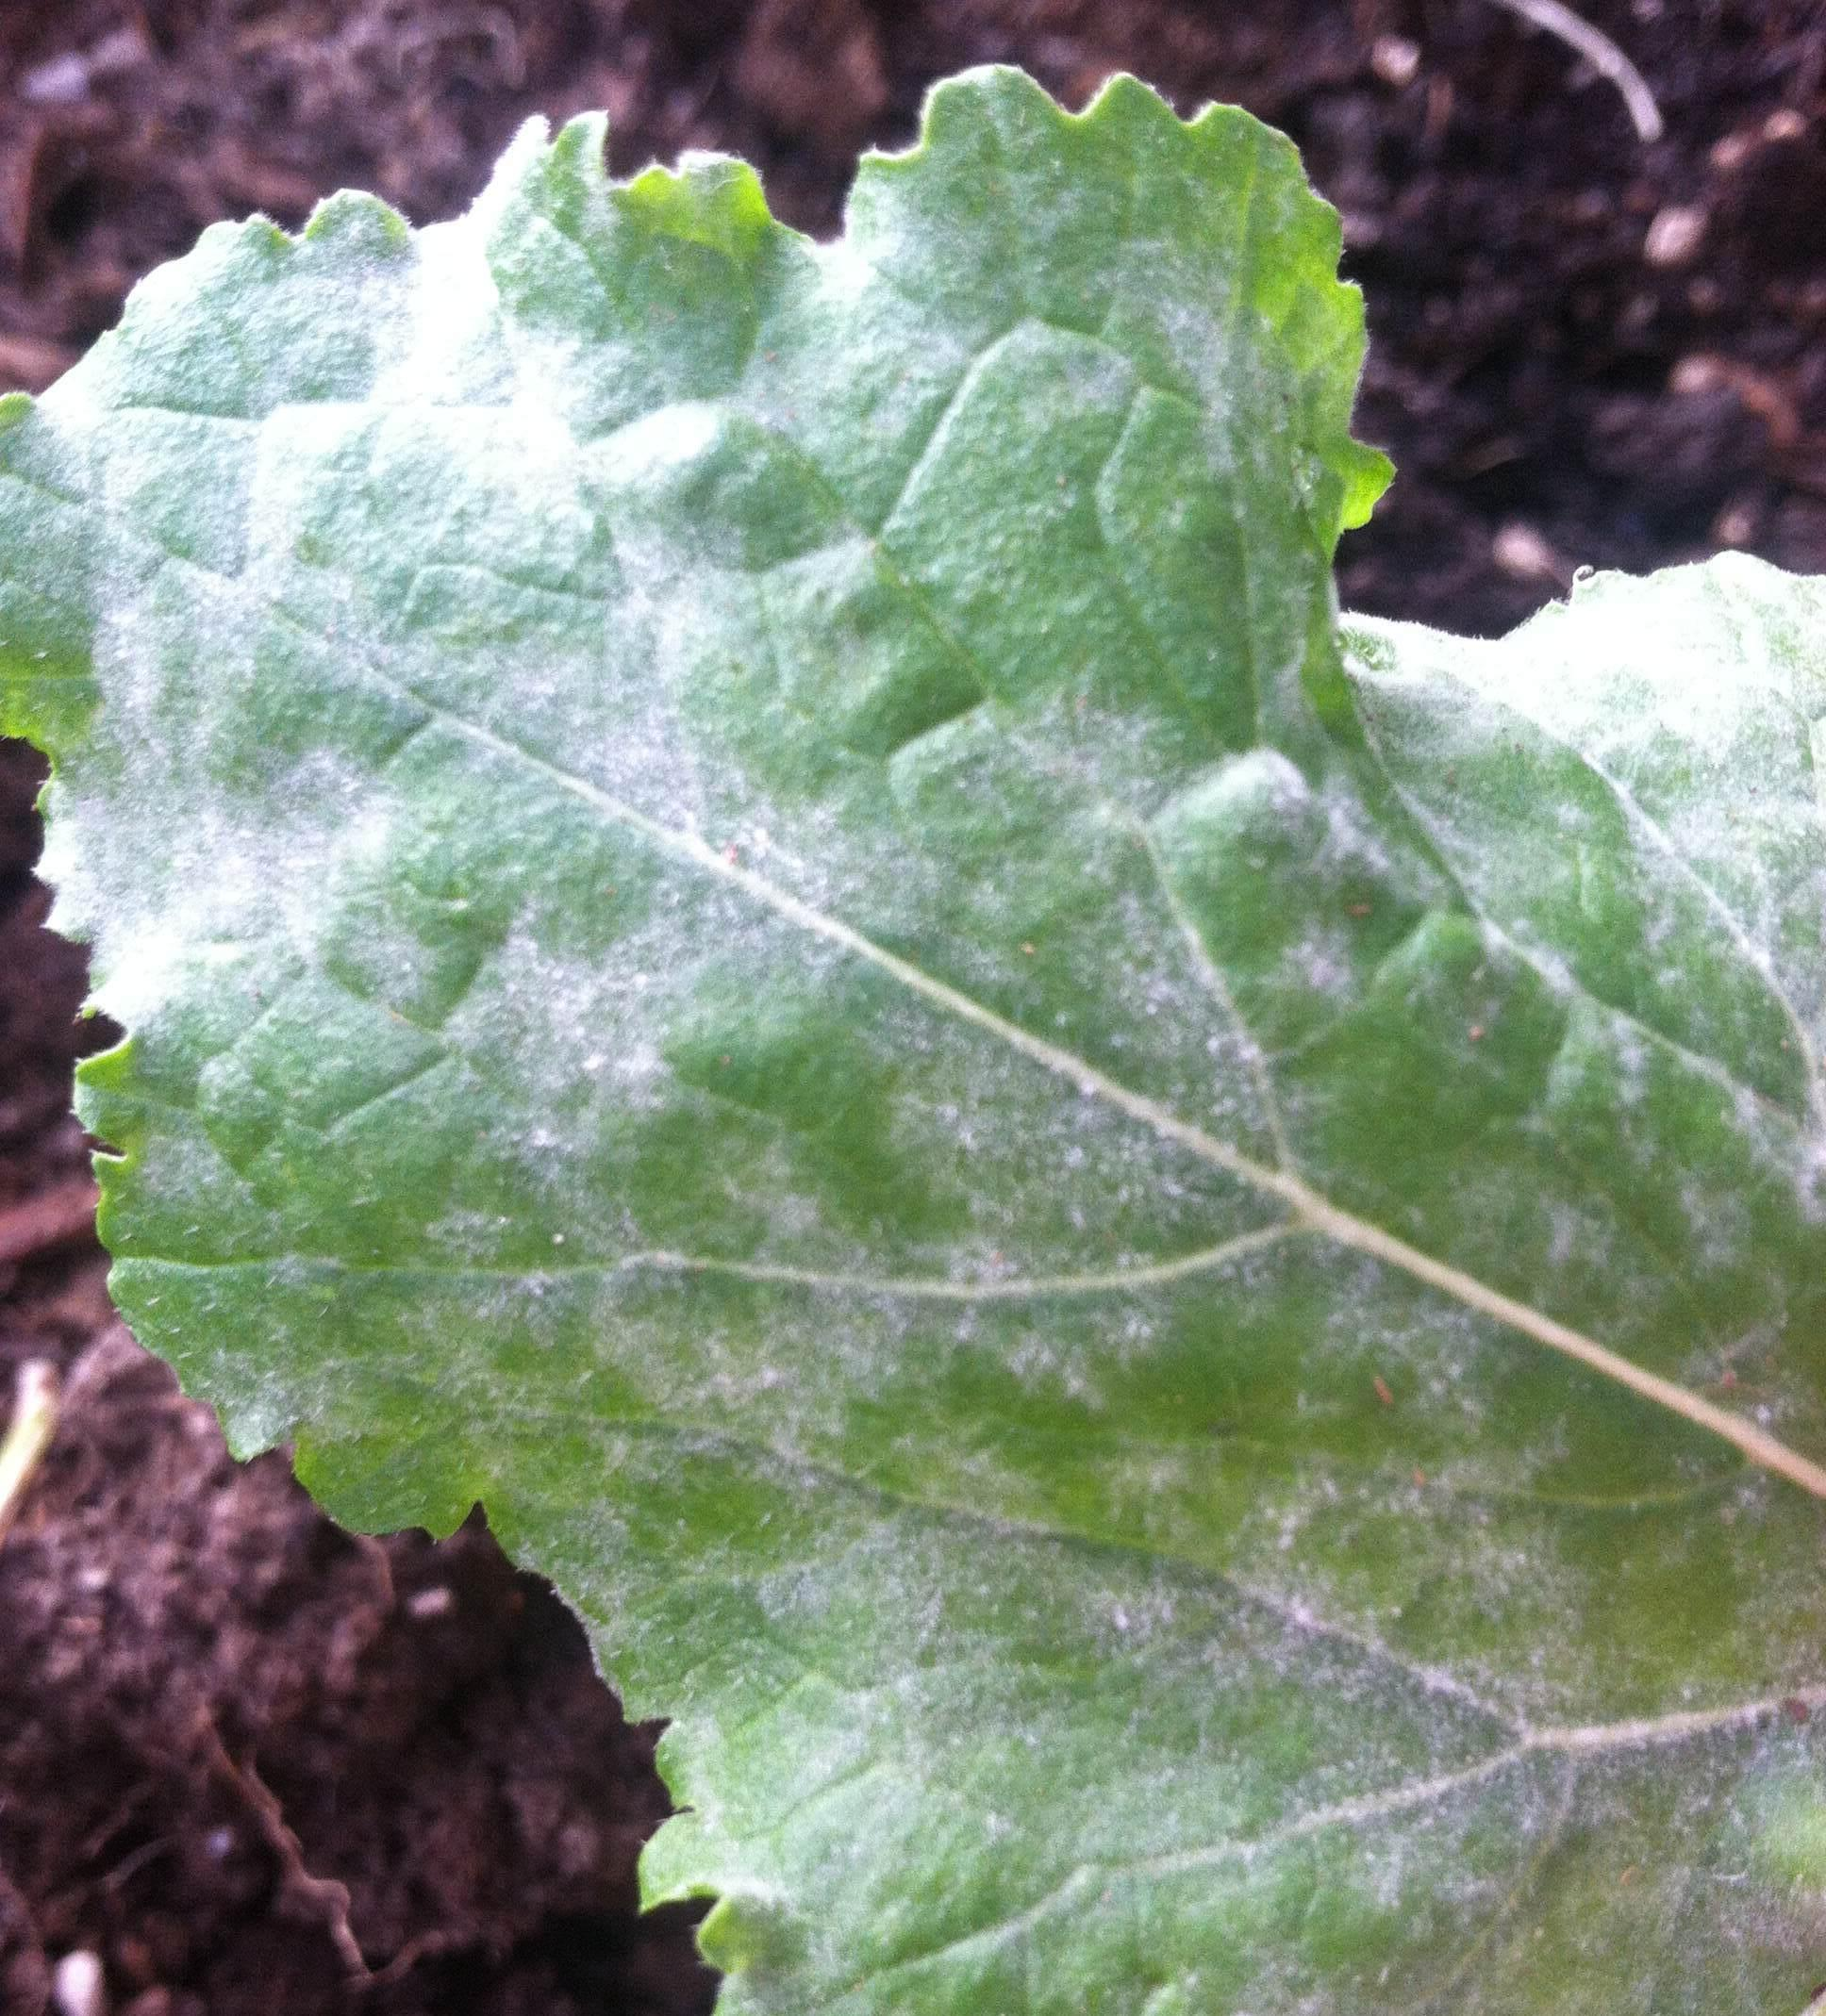Squash Powdery mildew leaf: (2, 61, 1826, 2016)
